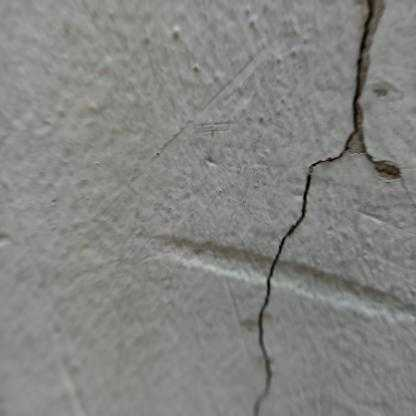crack: (252, 0, 376, 415)
